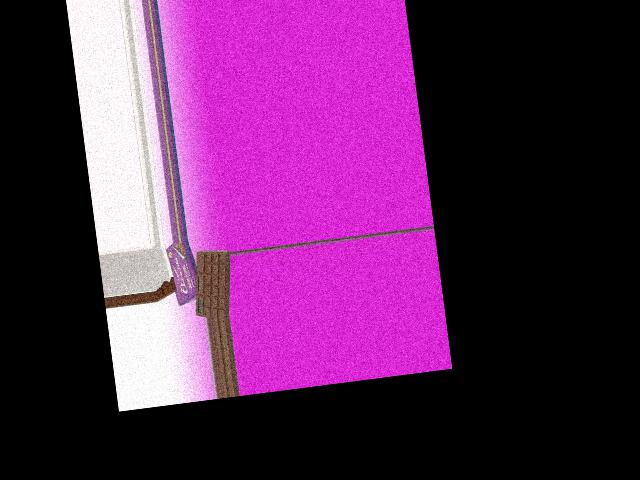chocolate: (186, 248, 238, 316)
